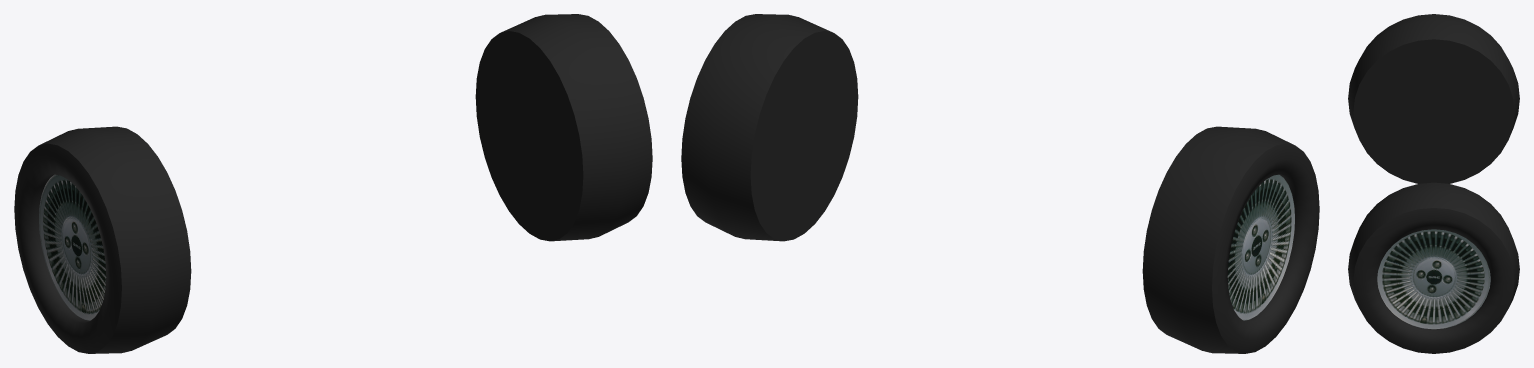
File: HinterAchse.dae
3 views of the same model, side by side, from view 1: azimuth 30°, elevation 25°; view 2: azimuth 150°, elevation 25°; view 3: azimuth 270°, elevation 25° (orthographic). The views are drawn at different scales.
Parts seen in each view (by area): view 1: HinterAchse; view 2: HinterAchse; view 3: HinterAchse.
Part boxes in pixels (bbox=[...]): HinterAchse: bbox=[14, 14, 652, 353]; HinterAchse: bbox=[681, 14, 1319, 353]; HinterAchse: bbox=[1348, 14, 1519, 353].
Bounding box in the file's own units: 188 × 69.51 × 69.51.
Materials: 1 (1 with a texture image).
